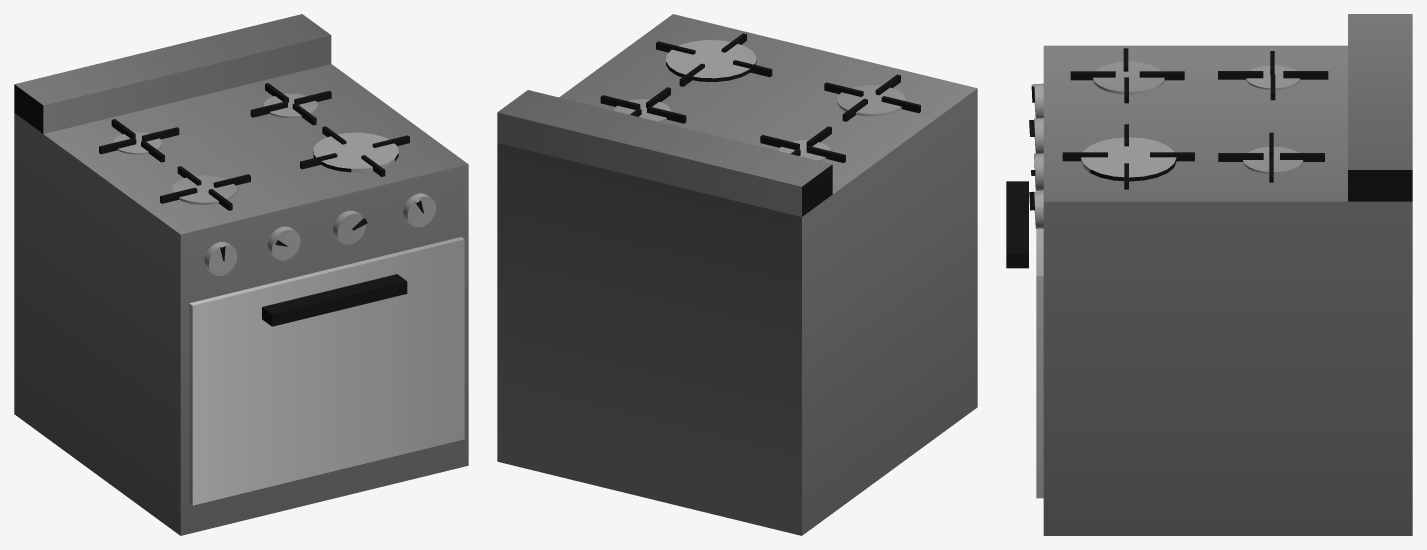
The model's file is cocinacontextura.fbx.
3 renders of one model, left to right at view 1: azimuth 30°, elevation 25°; view 2: azimuth 150°, elevation 25°; view 3: azimuth 270°, elevation 25°, orthographic. The views are drawn at different scales.
Visible parts, largest first — view 1: pCylinder9; view 2: pCylinder9; view 3: pCylinder9.
Part boxes in pixels (left/top/right/bottom): pCylinder9: left=14, top=14, right=468, bottom=535; pCylinder9: left=497, top=14, right=977, bottom=535; pCylinder9: left=1006, top=14, right=1412, bottom=535.
Size of the model in its own units: 195 by 213 by 214.
Materials: 1 (1 with a texture image).
